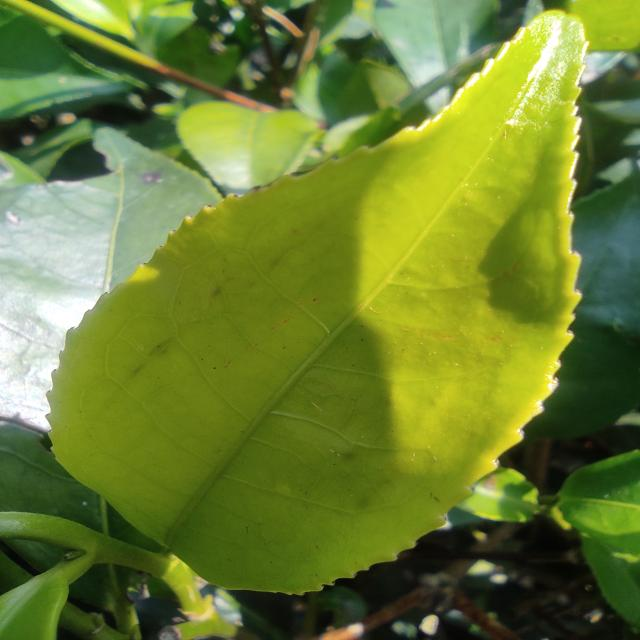Category C(4-7 days): (35, 0, 605, 605)
